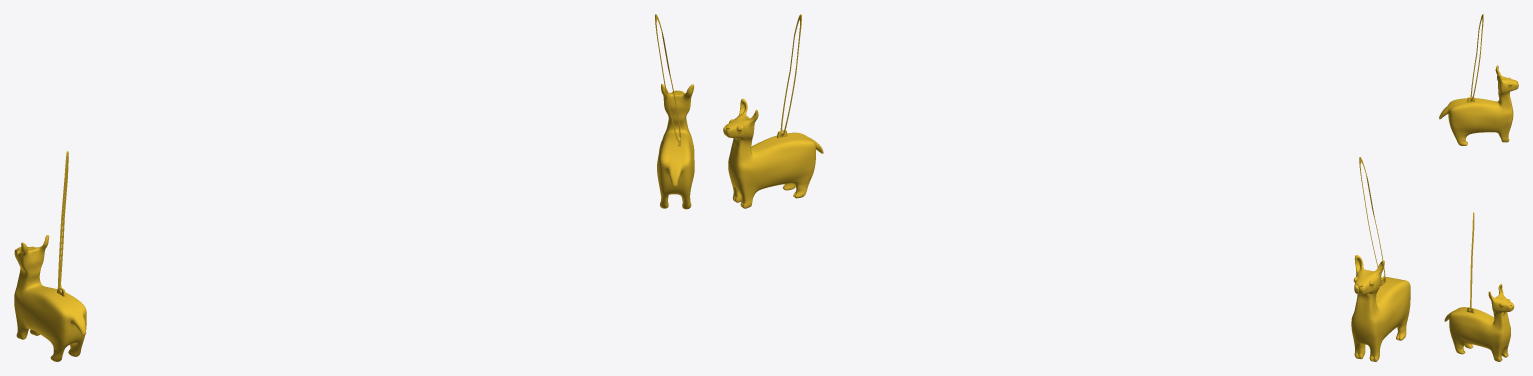
The model's file is ModeloLlama.glb.
3 views of the same model, side by side, from view 1: azimuth 30°, elevation 25°; view 2: azimuth 150°, elevation 25°; view 3: azimuth 270°, elevation 25° (orthographic). The views are drawn at different scales.
Visible parts, largest first — view 1: derecho, izquierod; view 2: izquierod, derecho; view 3: derecho, izquierod.
Part boxes in pixels (x1,y1,x2,y2): derecho: [14, 151, 86, 361]; izquierod: [655, 14, 694, 209]; izquierod: [723, 14, 823, 208]; derecho: [1351, 157, 1410, 361]; derecho: [1439, 14, 1518, 145]; izquierod: [1444, 212, 1514, 361].
Size of the model in its own units: 0.1795 by 0.049 by 0.0264.
